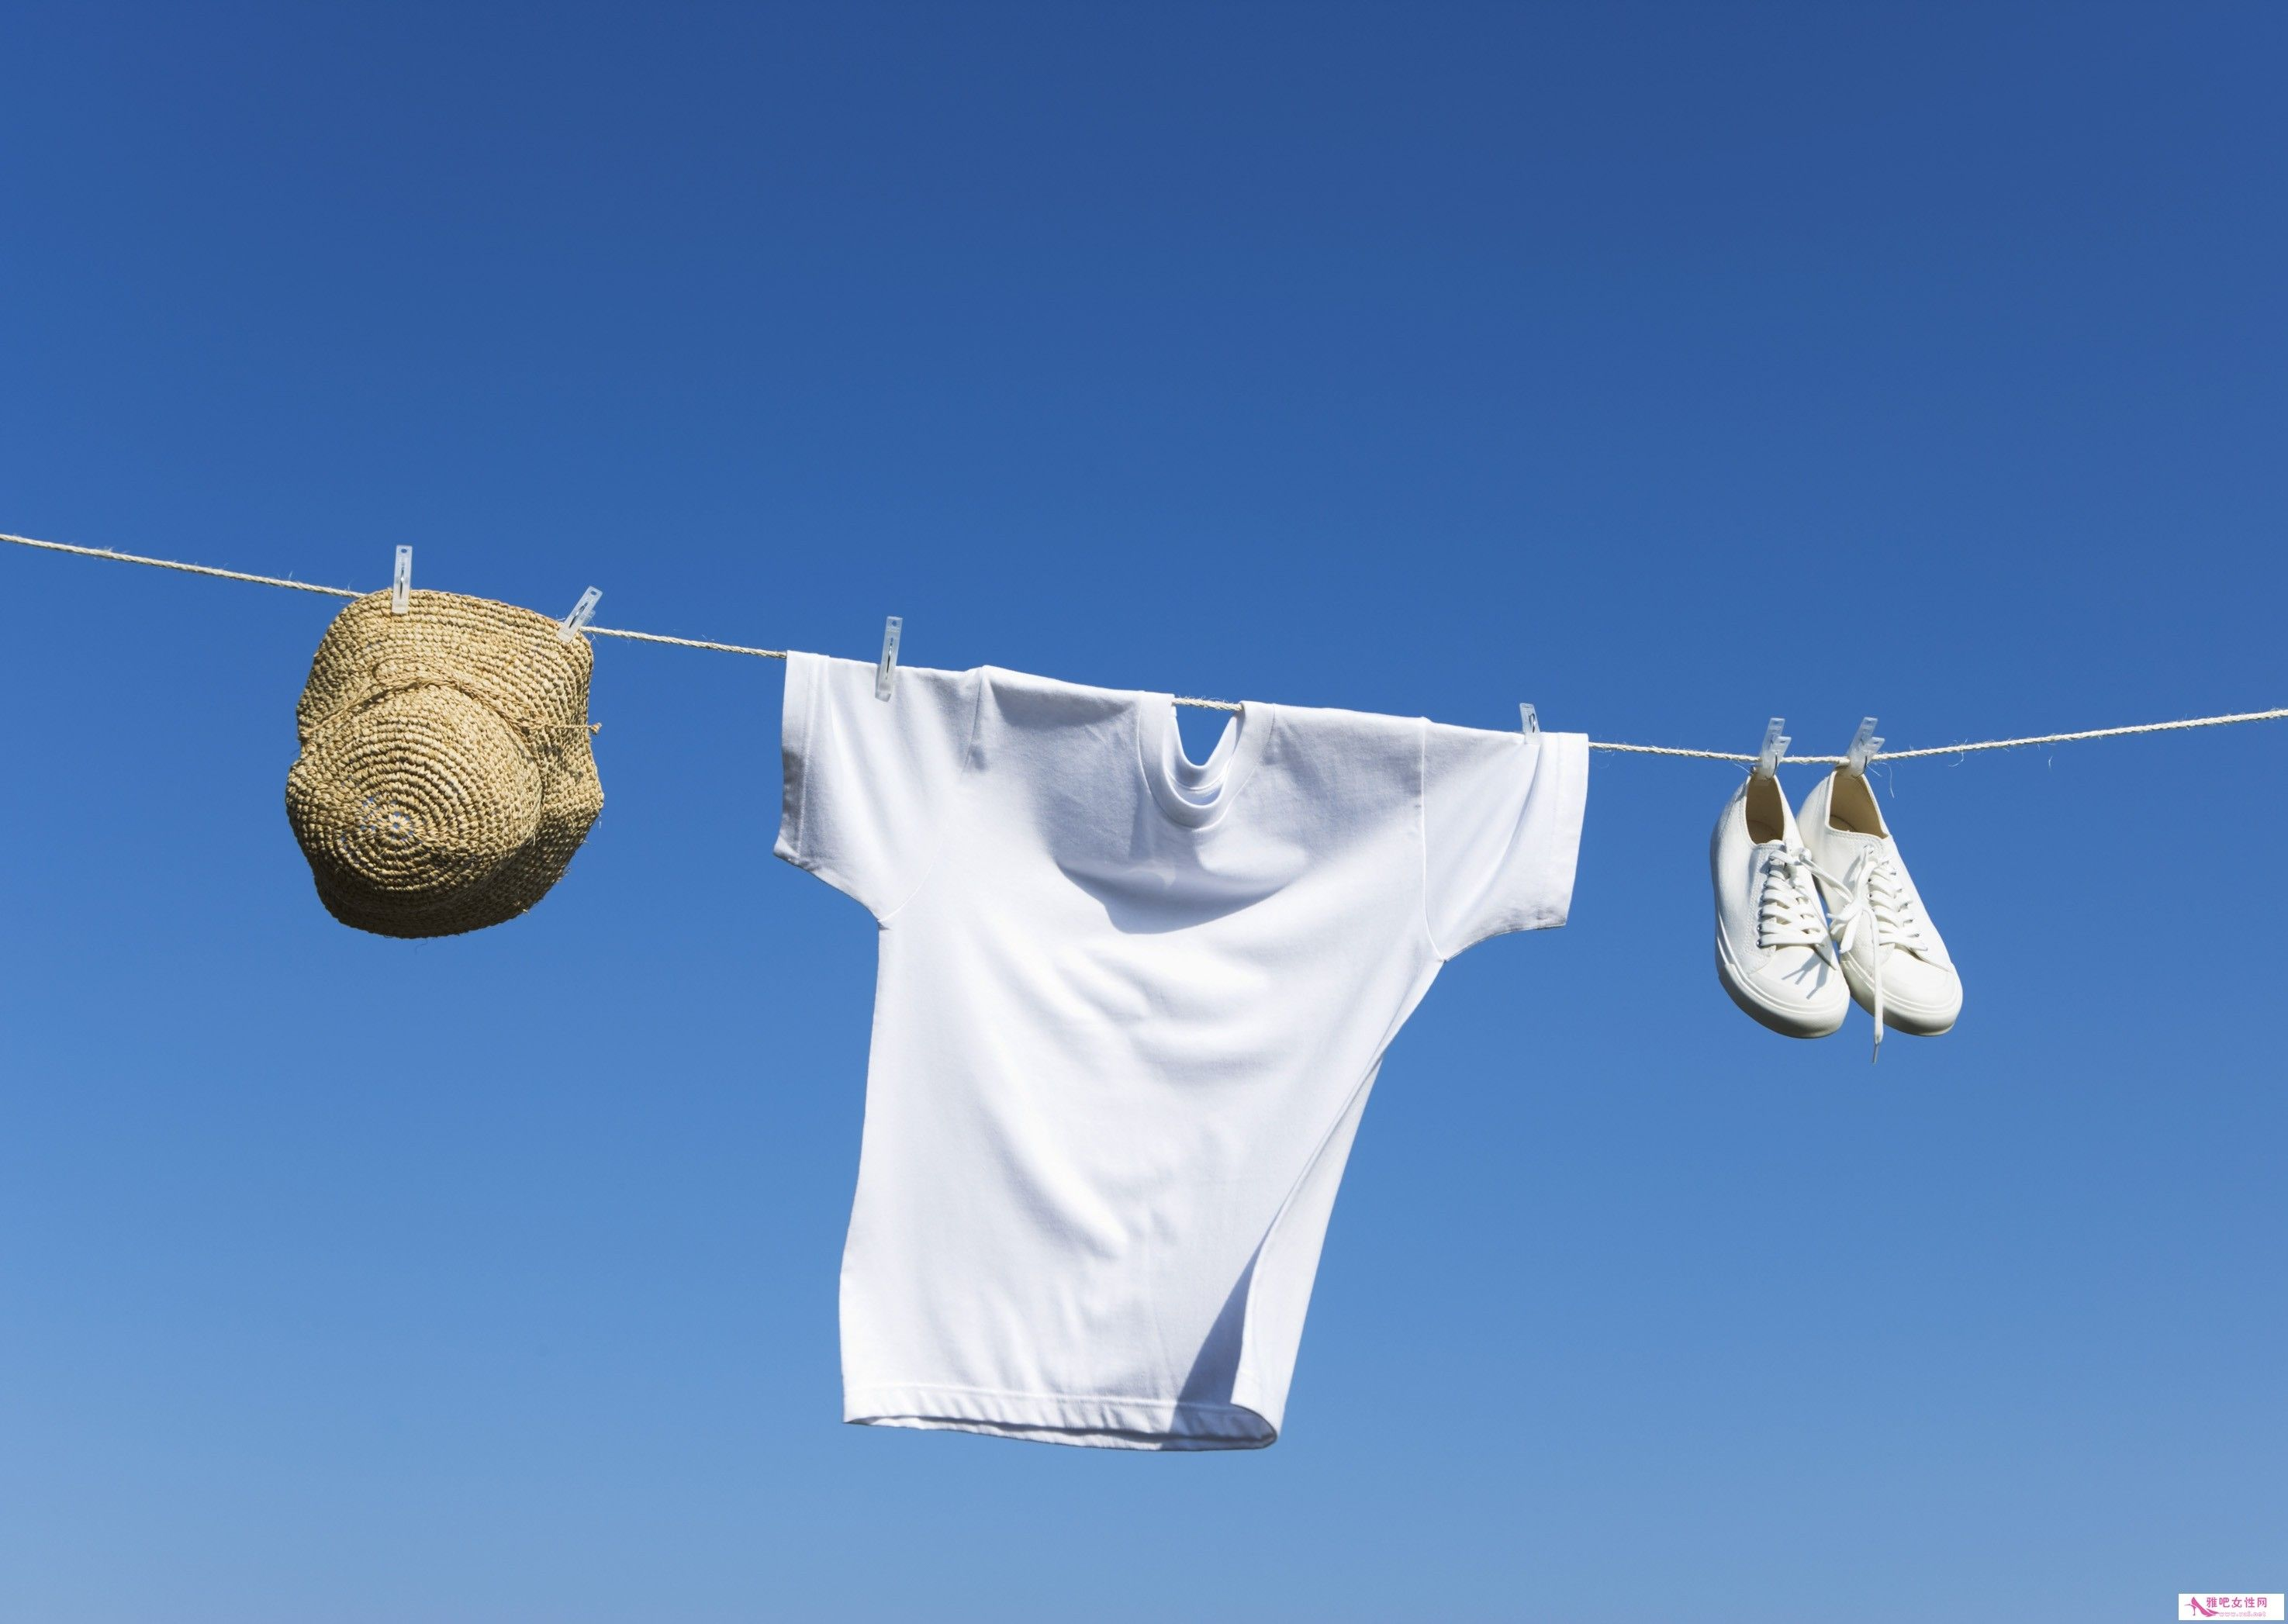flexible: (736, 619, 1601, 1455)
